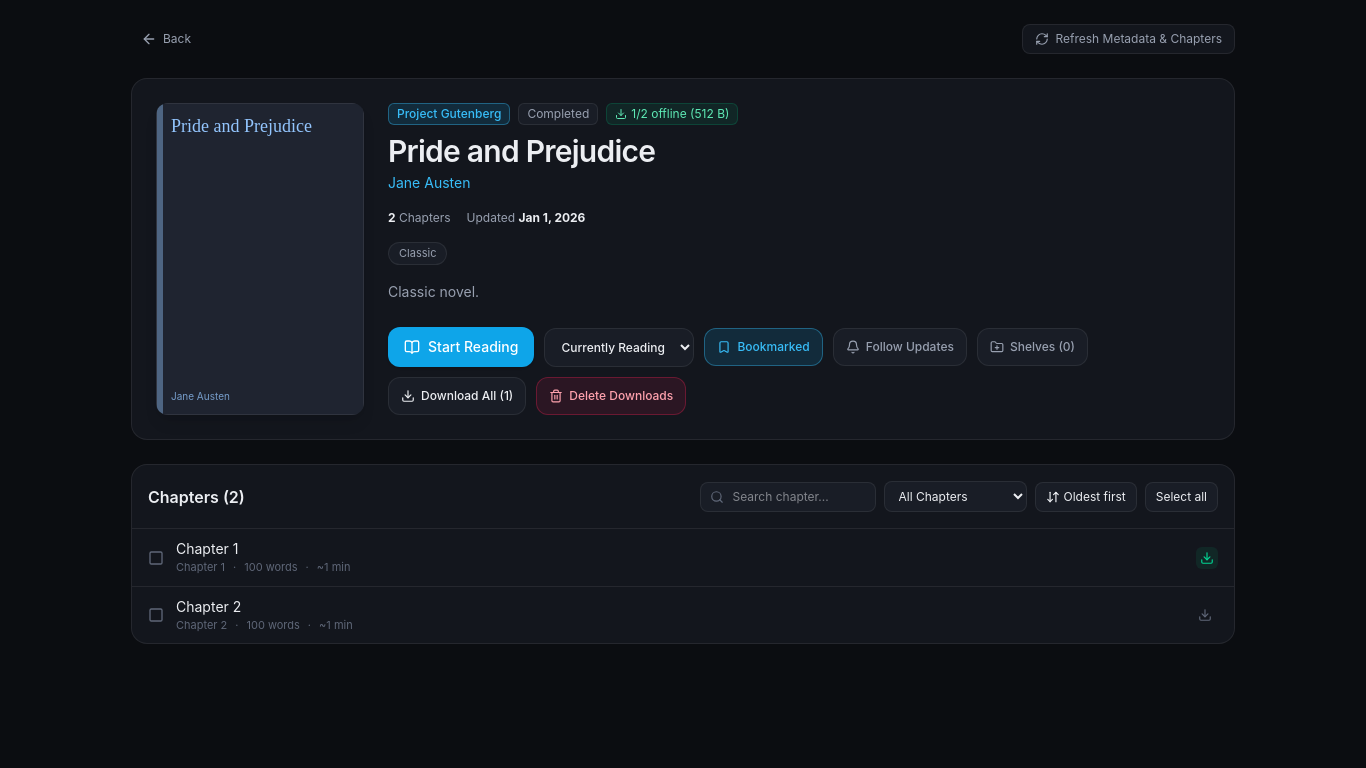
it: NovelDetailsPage bookmark deletion and download progress updates › deletes novel-level bookmark rows when un-bookmarking and refreshes chapter badges on download-updated
Expected: the text "1/2 offline (512 B)" is shown, [606,103,738,125]
Expected: the number of elements titled "Downloaded (" is 1, [1196,546,1218,568]
Click the button "Bookmarked".
click(764, 347)  # box [704,328,823,366]
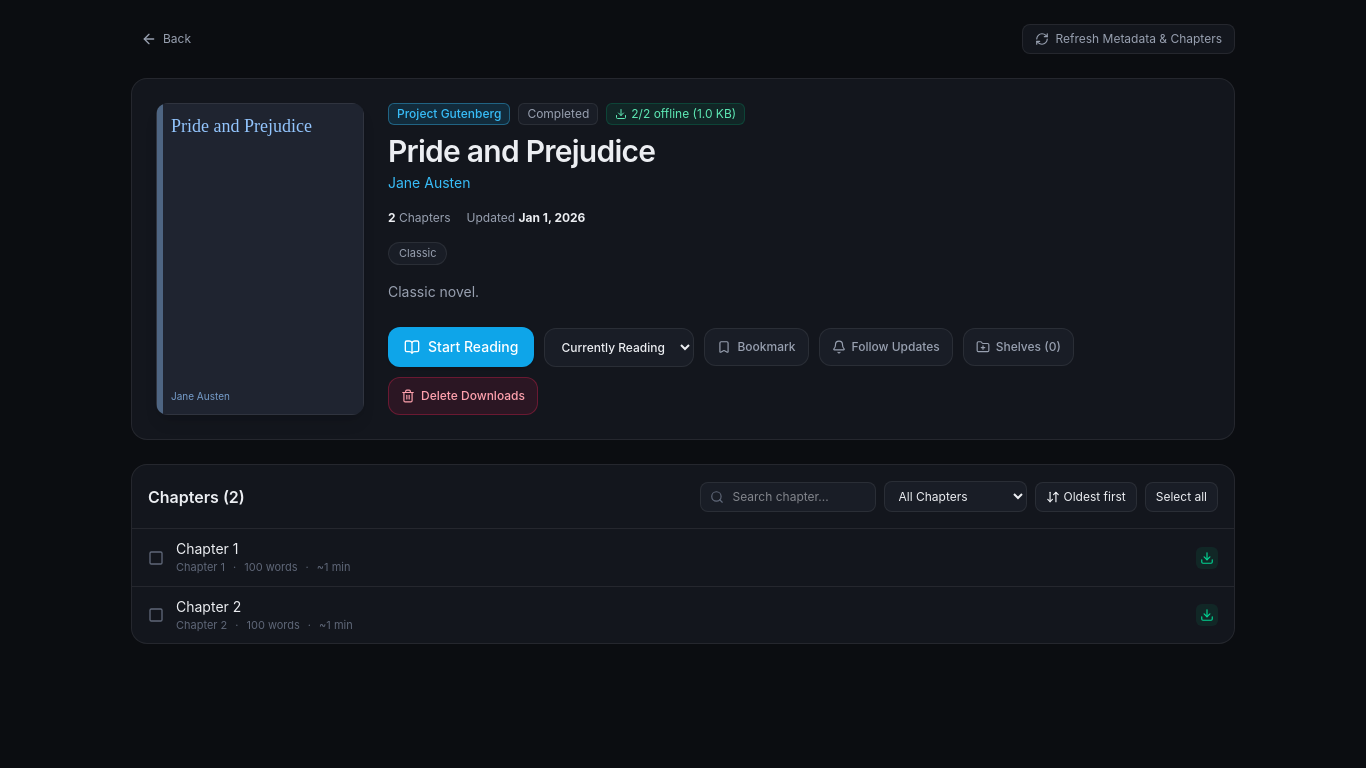
Now the text "2/2 offline (1.0 KB)" is shown, box [606,103,745,125]
Now the number of elements titled "Downloaded (" is 2, box [1196,546,1218,568]; [1196,604,1218,626]
